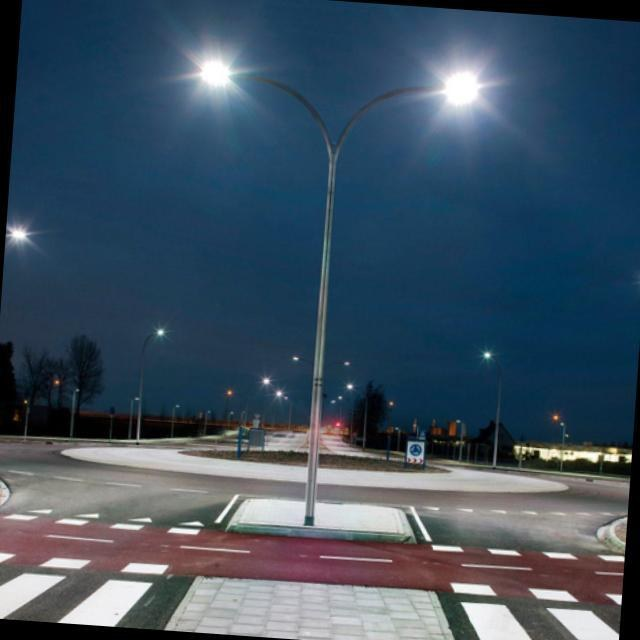acesa: (170, 33, 241, 108), (430, 56, 501, 123)
